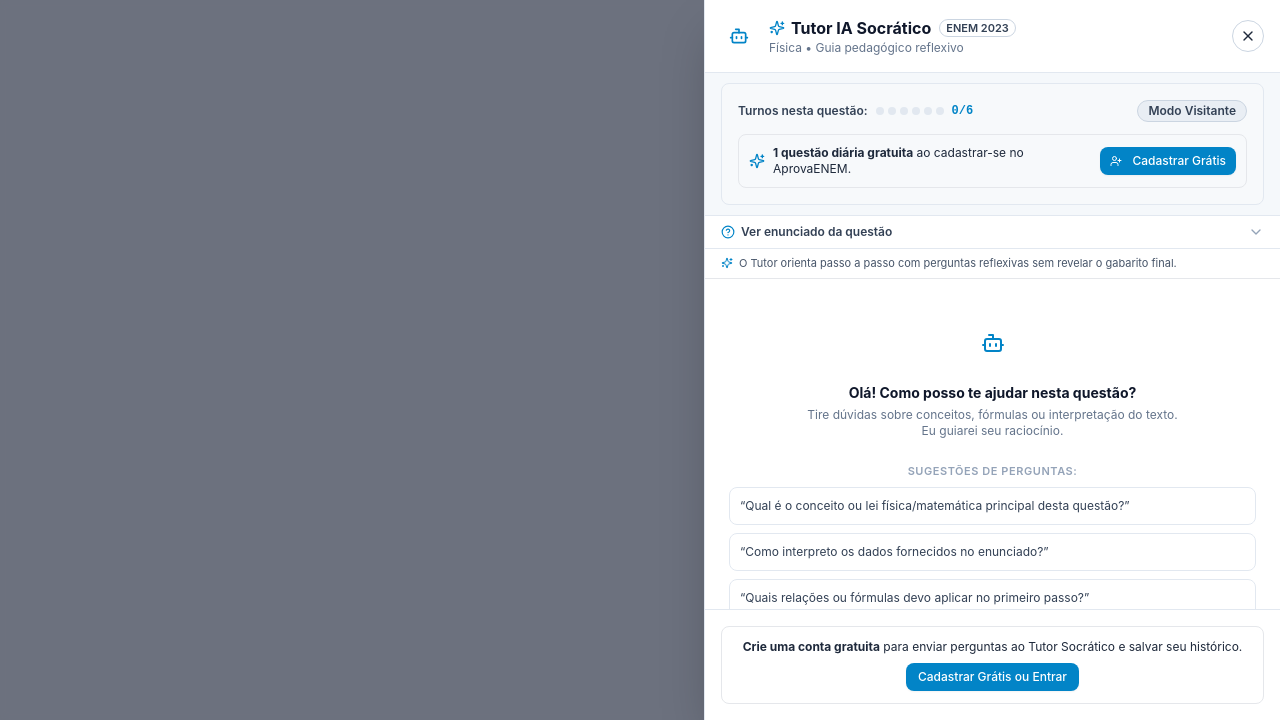
SocraticTutorDrawer Component › should display guest banner and open register modal in unauthenticated mode
This screenshot has width=1280, height=720.
expect the text "Crie uma conta gratuita" is shown: met, box left=743, top=639, right=880, bottom=654
Click the button "Cadastrar Grátis ou Entrar". click: (992, 677)
box: left=906, top=663, right=1079, bottom=691
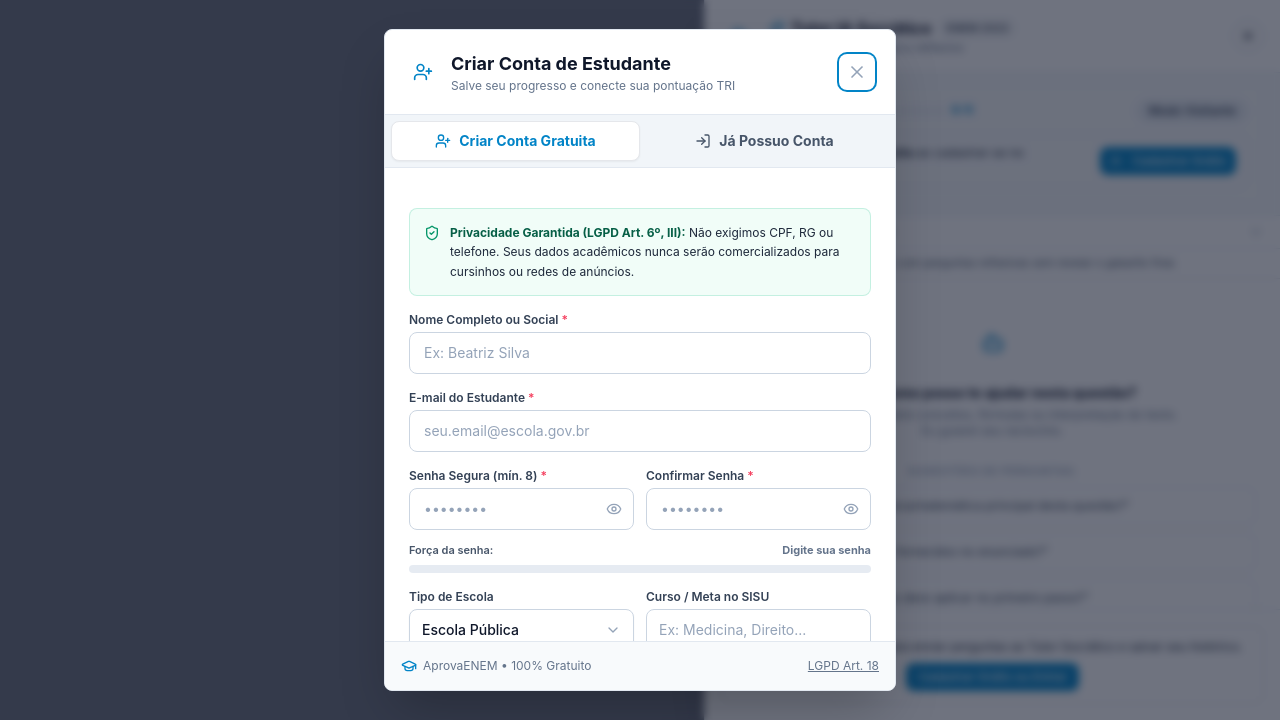
expect the heading "Criar Conta de Estudante" is shown: met, box left=451, top=53, right=671, bottom=74
